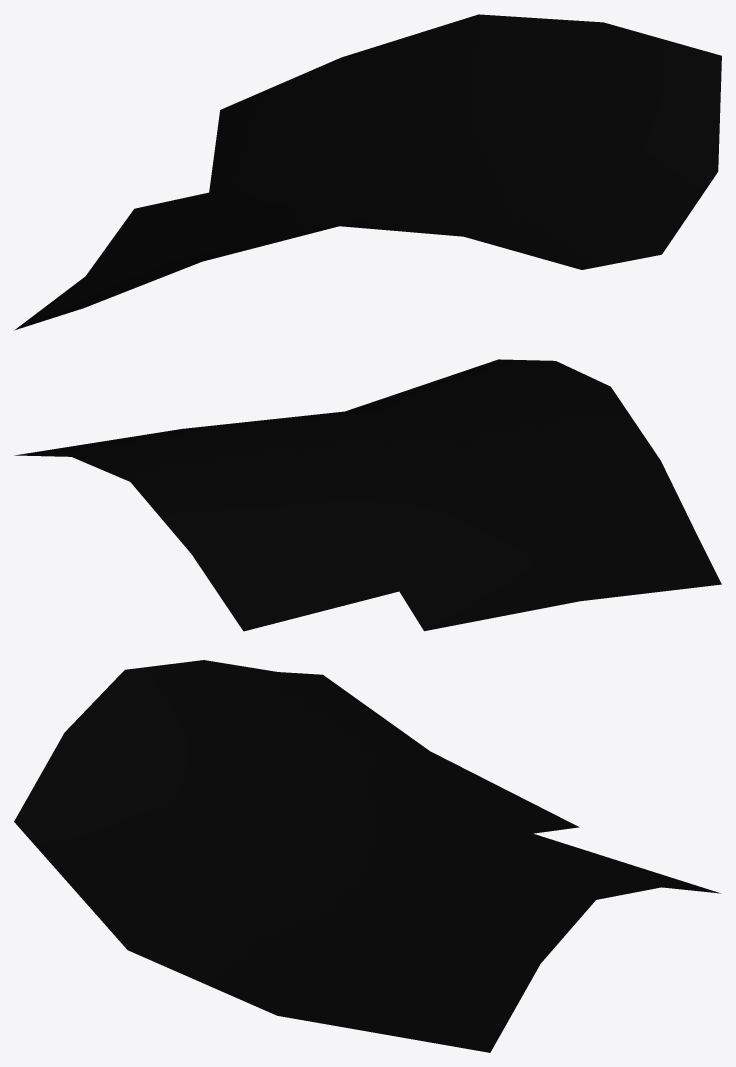
The model's file is HTOWN01_TREESHADOWS17.fbx.
3 views of the same model, one above another, from view 1: azimuth 30°, elevation 25°; view 2: azimuth 150°, elevation 25°; view 3: azimuth 270°, elevation 25° (orthographic). The views are drawn at different scales.
Parts seen in each view (by area): view 1: HTOWN01_TREESHADOWS17; view 2: HTOWN01_TREESHADOWS17; view 3: HTOWN01_TREESHADOWS17.
Part boxes in pixels (box(x1,y1,x2,y2)): HTOWN01_TREESHADOWS17: box(14, 14, 721, 330); HTOWN01_TREESHADOWS17: box(14, 359, 721, 631); HTOWN01_TREESHADOWS17: box(14, 660, 720, 1052).
Size of the model in its own units: 250512 by 43789 by 185680.
1 material, 1 textured.
